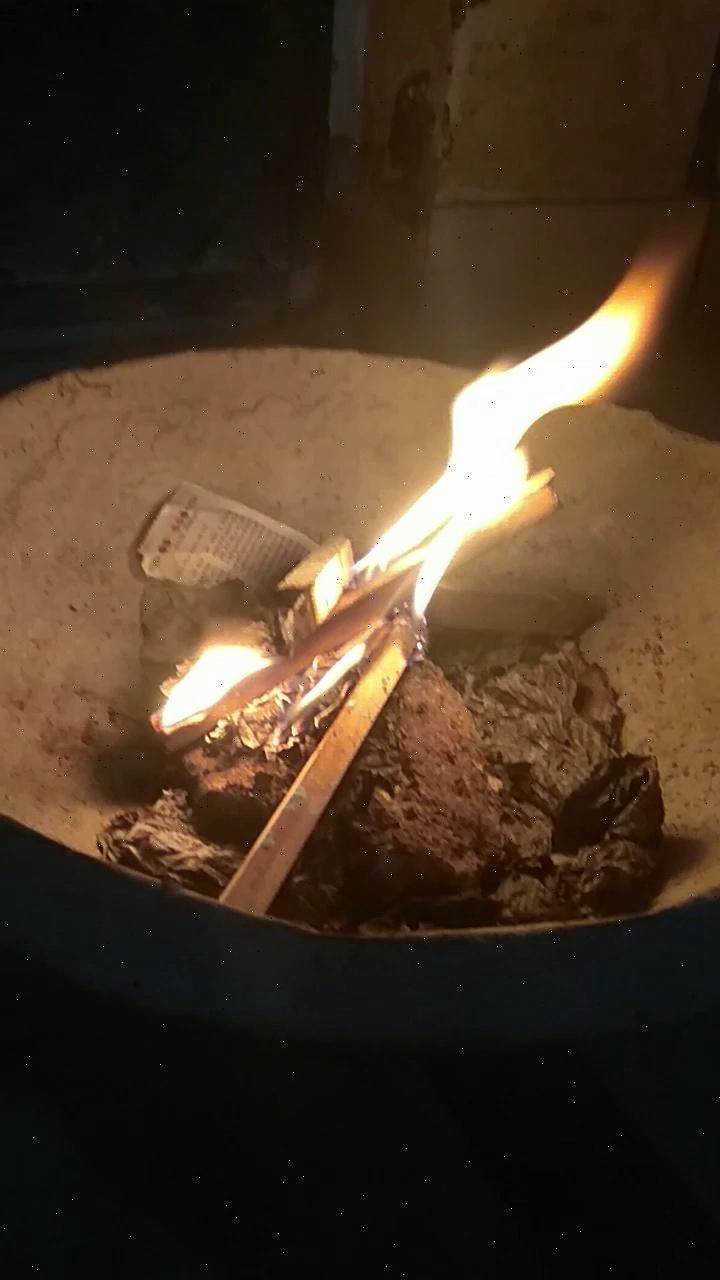fire: (144, 265, 691, 765)
